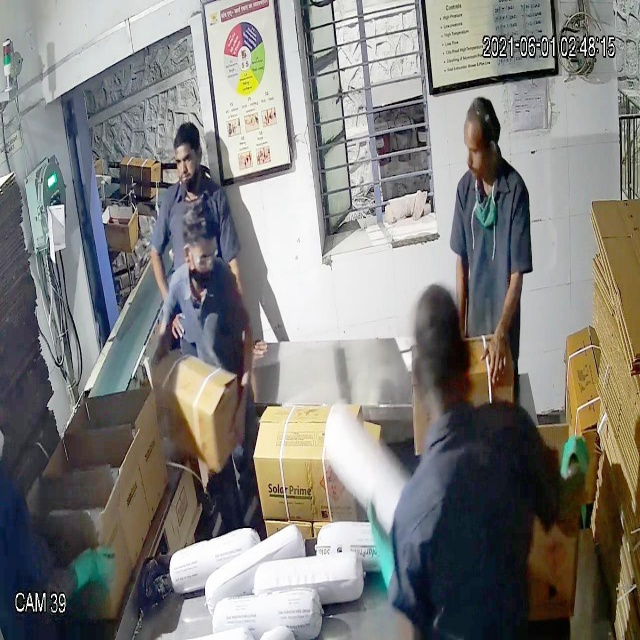Sin_gafas: (460, 134, 507, 164), (184, 243, 221, 277), (169, 144, 205, 178)
